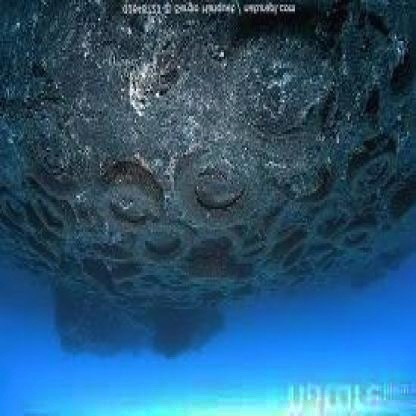tire: (169, 141, 259, 225), (94, 148, 165, 243), (133, 204, 194, 282), (313, 186, 363, 248), (345, 146, 398, 202), (30, 193, 76, 252), (233, 234, 278, 275), (271, 228, 308, 268)
